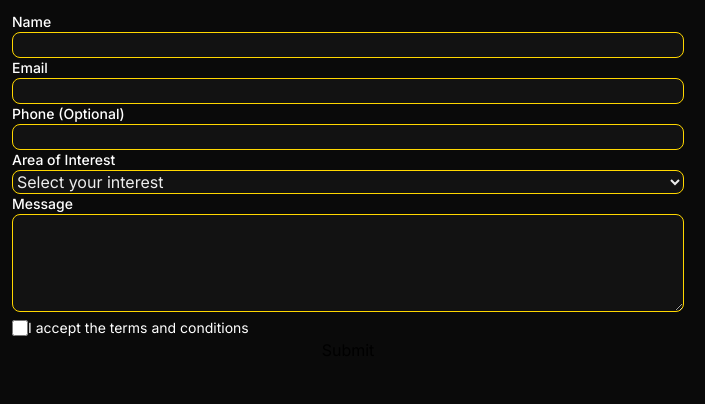
it: ContactForm › validates phone number format when provided
The width and height of the screenshot is (705, 404).
// Test invalid phone number
In the field labelled "Phone (Optional)": [348, 137] box left=12, top=124, right=684, bottom=150, type "invalid-phone"
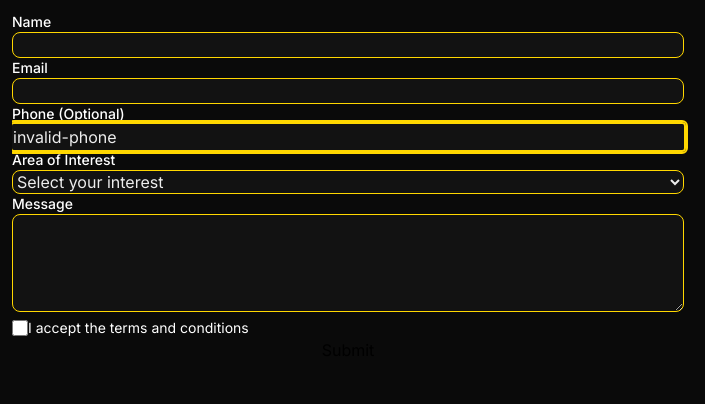
Press Tab
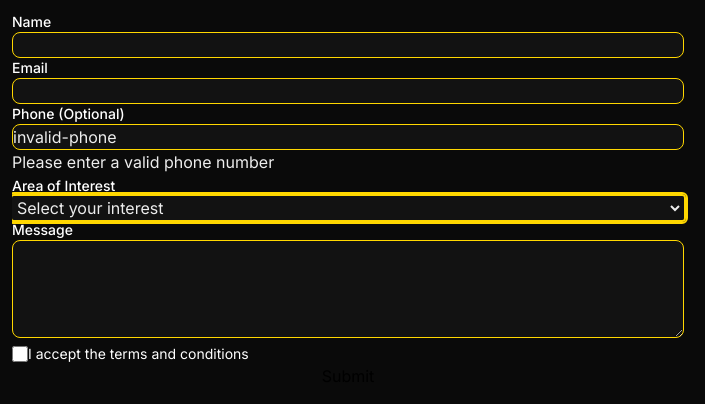
Expected: the text "Please enter a valid phone number" is shown, left=12, top=152, right=274, bottom=172
// Clear and test valid phone number
Replace the text in the field labelled "Phone (Optional)" with "+1234567890": [348, 137] box left=12, top=124, right=684, bottom=150
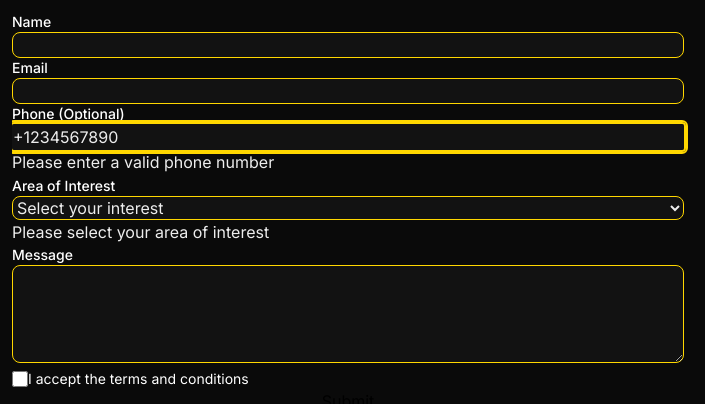
Press Tab
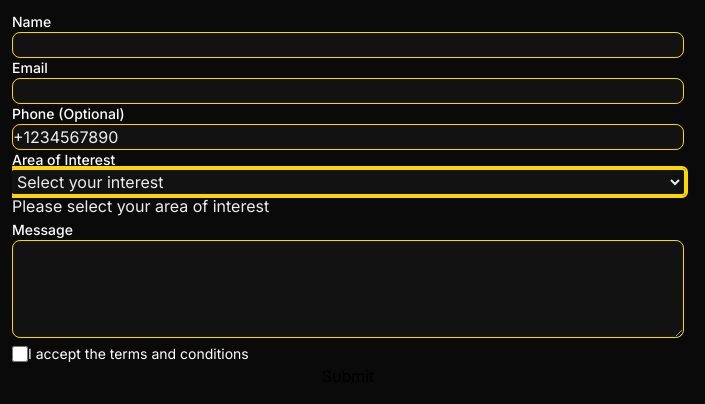
Expected: the text "Please enter a valid phone number" is gone
